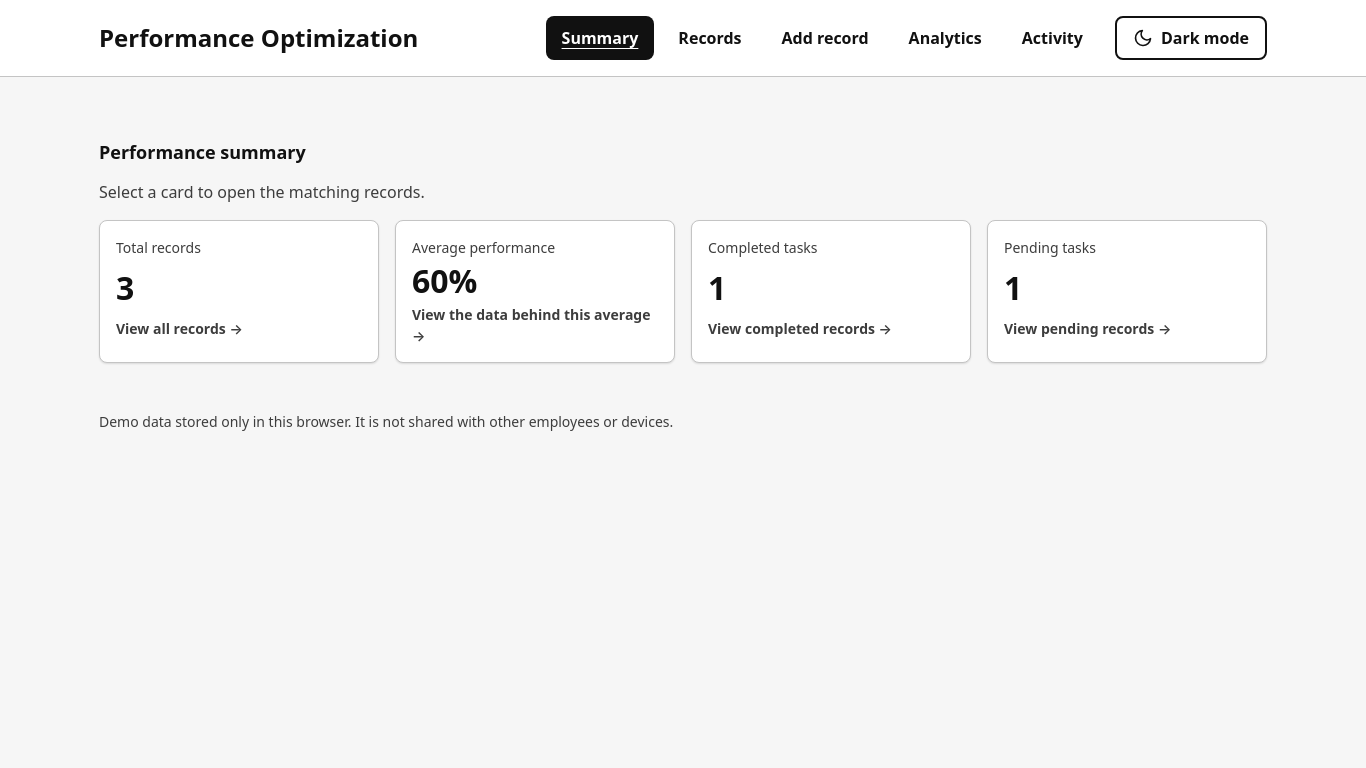
Test: hash navigation › shows exactly one view at a time (no duplicate sections)
The width and height of the screenshot is (1366, 768).
Expected: the field labelled "task or process name" is not shown
Expected: the field labelled "search records" is not shown
Click the link "Records".
click(710, 38)  # box [678,27,742,49]
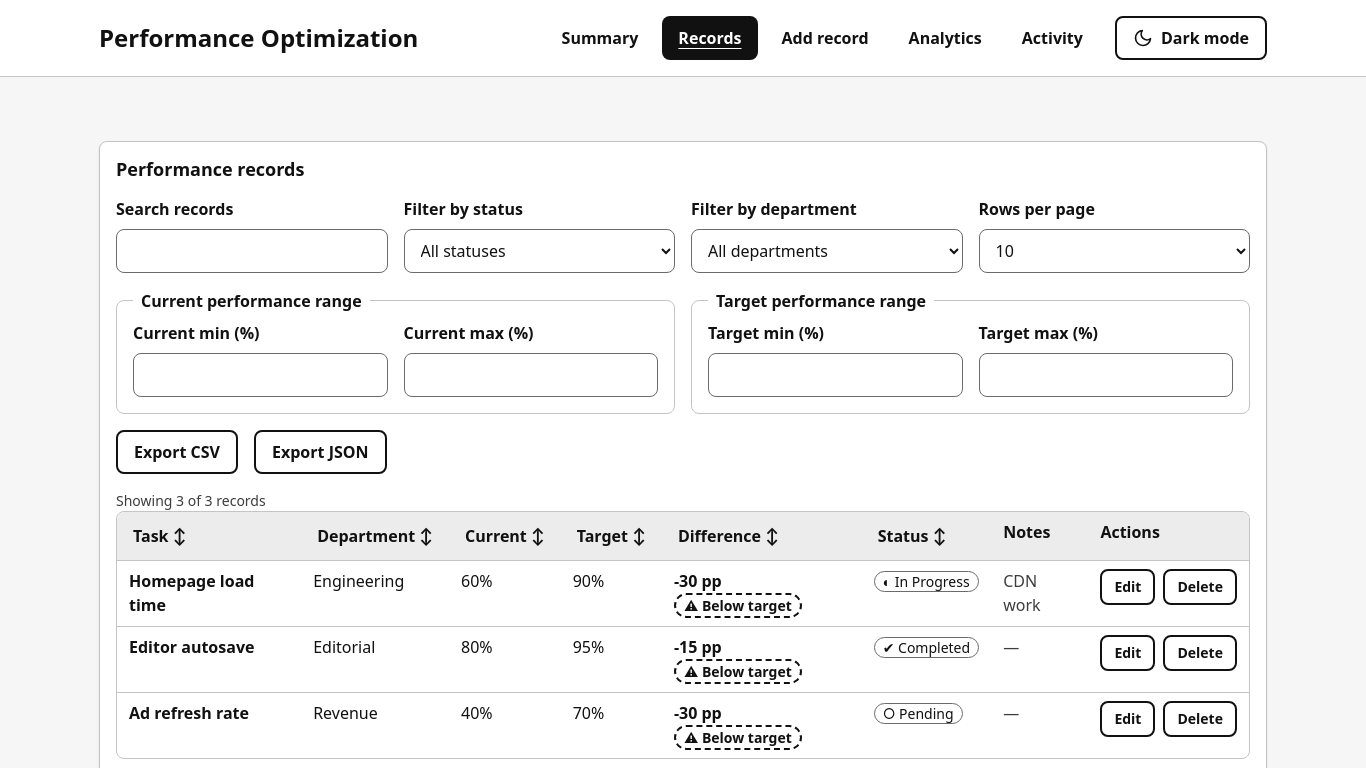
Expected: the field labelled "task or process name" is not shown
Now the button "Total records" is gone
Click the link "Add record".
click(825, 38)  # box [782,27,869,49]
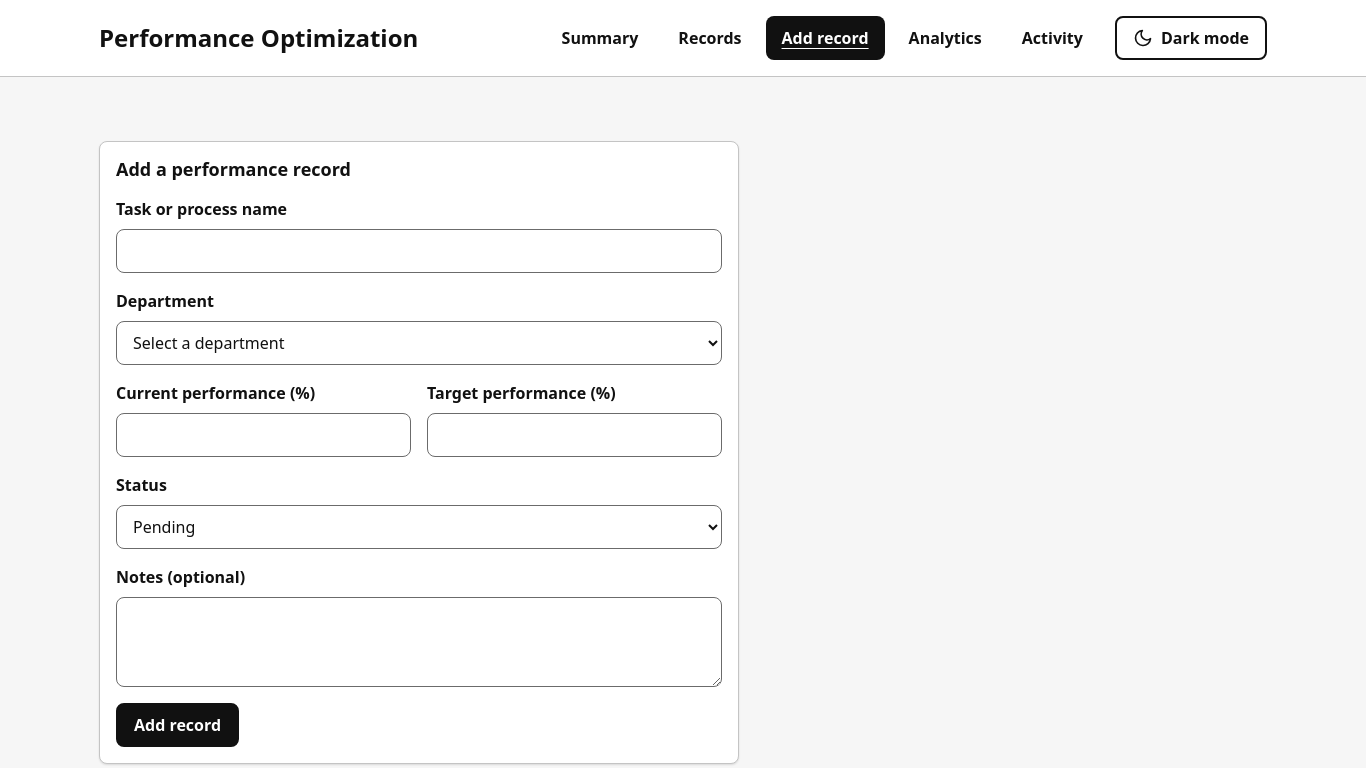
Now the table is gone
Now the field labelled "Task or process name" is shown, box [116,228,722,272]
